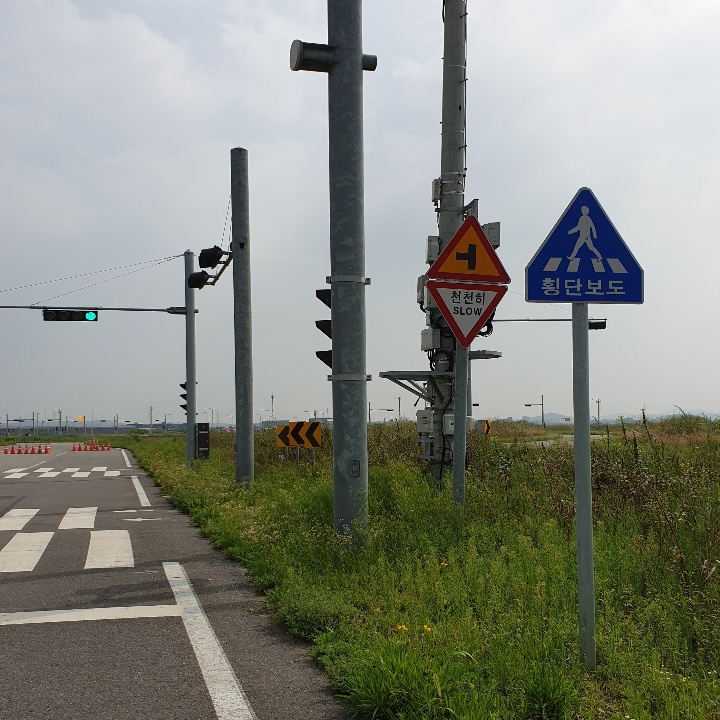cross: (562, 200, 612, 265)
